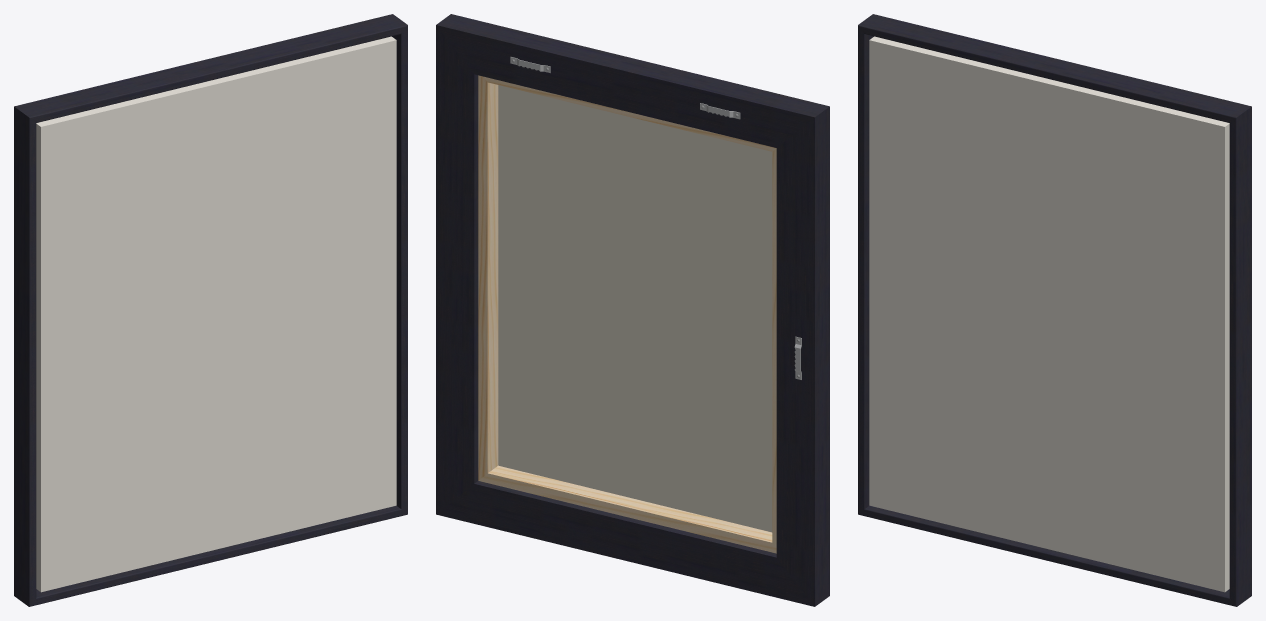
The model's file is decoded-from-delivery.glb.
3 views of the same model, side by side, from view 1: azimuth 30°, elevation 25°; view 2: azimuth 150°, elevation 25°; view 3: azimuth 330°, elevation 25° (orthographic).
Visible parts, largest first — view 1: Canvas artwork front, Tray approved profile 0; view 2: Canvas linen reverse, Tray approved profile 0, Stretcher top, Sawtooth hanger 0; view 3: Canvas artwork front, Tray approved profile 0.
Part boxes in pixels (x1=…): Canvas artwork front: x1=36, y1=36, x2=396, y2=592; Tray approved profile 0: x1=14, y1=14, x2=407, y2=606; Canvas linen reverse: x1=498, y1=85, x2=772, y2=532; Tray approved profile 0: x1=436, y1=14, x2=829, y2=606; Stretcher top: x1=478, y1=75, x2=776, y2=553; Sawtooth hanger 0: x1=510, y1=57, x2=801, y2=379; Canvas artwork front: x1=869, y1=36, x2=1229, y2=592; Tray approved profile 0: x1=858, y1=14, x2=1251, y2=606.
Bounding box in the file's own units: 0.426 × 0.526 × 0.0324.
7 materials, 3 textured.
